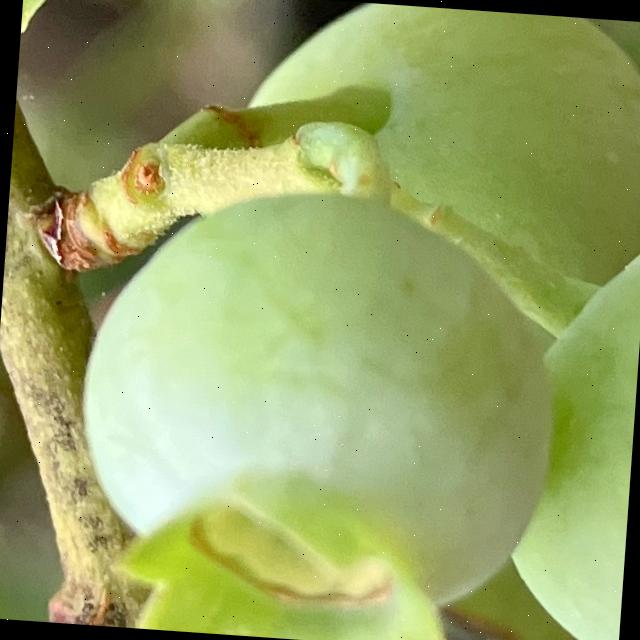Blueberries: (60, 170, 565, 640)
